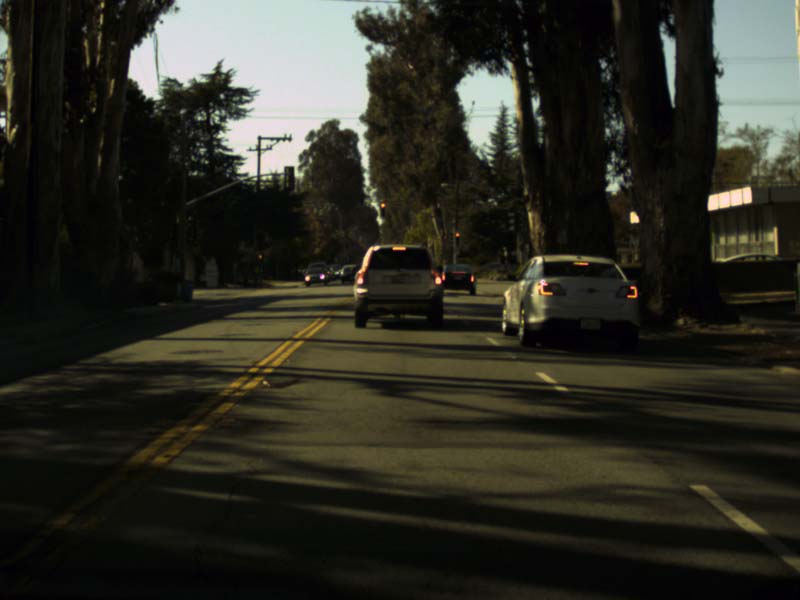Red: (380, 202, 385, 216), (455, 231, 459, 244)
